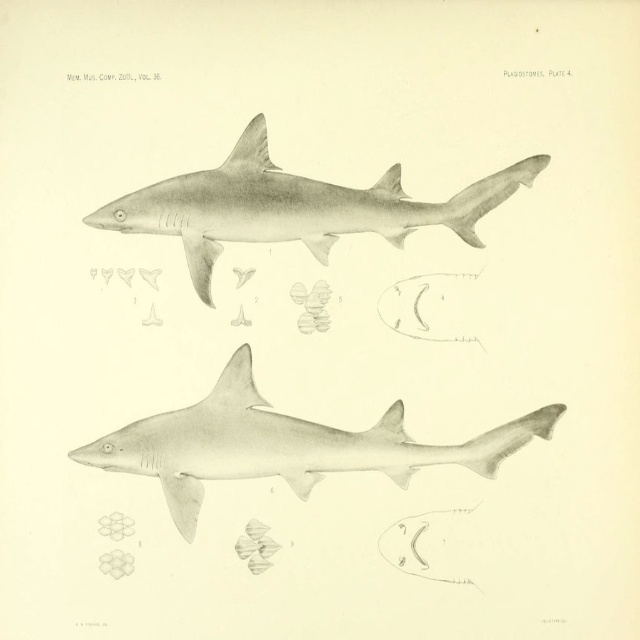Shark: (67, 343, 565, 544), (82, 111, 547, 307)
